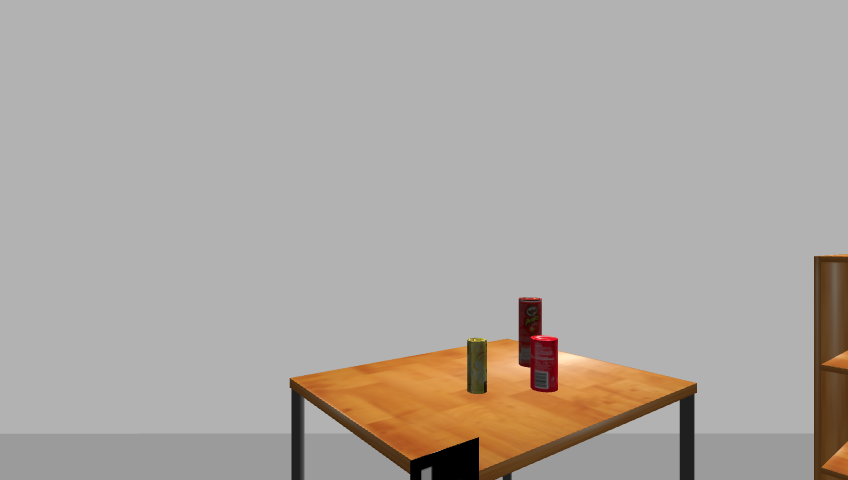aruco marker: (403, 437, 485, 480)
biscuits pack: (465, 337, 489, 396)
bookshelf: (809, 253, 848, 480)
coke can: (532, 337, 560, 393)
dinner table: (283, 340, 707, 480)
pringles can: (515, 296, 545, 370)
